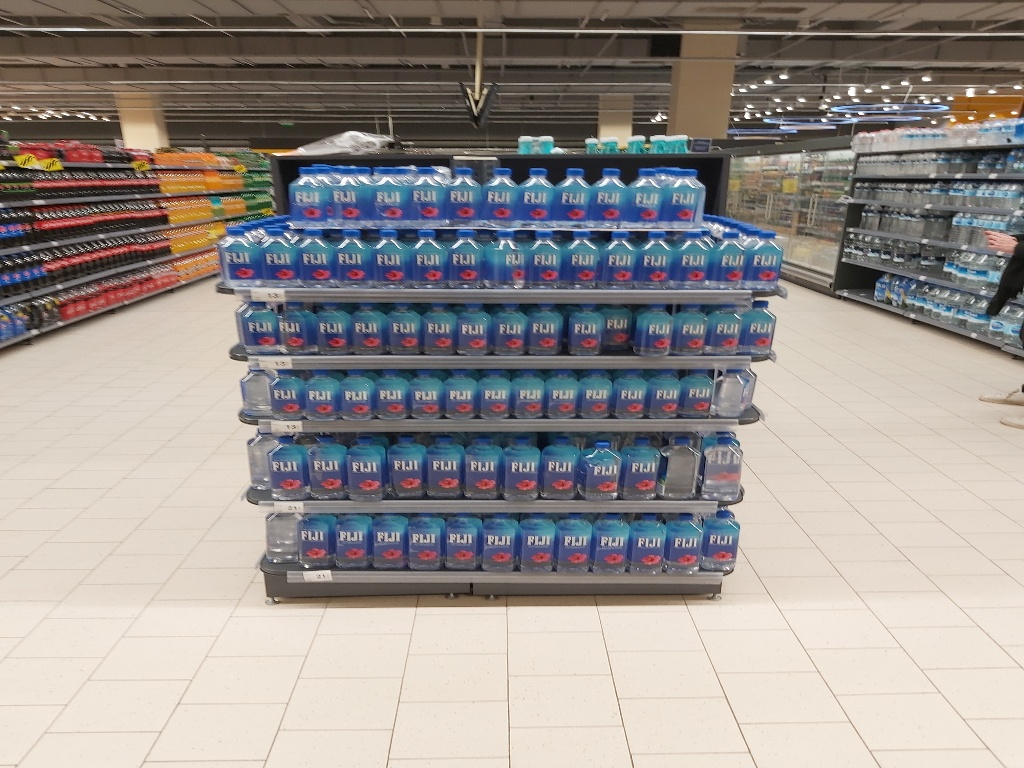urun: (699, 431, 746, 495), (662, 166, 703, 227), (591, 518, 634, 576), (627, 434, 663, 503), (328, 163, 369, 223), (366, 163, 407, 223), (404, 160, 445, 220), (445, 163, 486, 223), (483, 163, 524, 223), (513, 161, 554, 221), (550, 163, 591, 223), (589, 160, 630, 220), (625, 168, 666, 228), (292, 511, 333, 571), (329, 511, 370, 571), (367, 511, 408, 571), (407, 512, 448, 572), (438, 512, 479, 572), (480, 515, 521, 575), (515, 515, 556, 575), (554, 517, 595, 577), (541, 438, 579, 502), (666, 434, 701, 503), (270, 434, 307, 498), (306, 431, 343, 495), (346, 431, 383, 495), (388, 435, 425, 499), (428, 431, 465, 495), (467, 434, 504, 498), (502, 439, 539, 503), (584, 439, 621, 503), (255, 224, 296, 280), (289, 227, 330, 283), (329, 229, 370, 285), (404, 229, 445, 285), (443, 228, 484, 284), (483, 227, 524, 283), (364, 227, 404, 283), (236, 300, 279, 352), (639, 228, 676, 288), (672, 227, 709, 287), (709, 228, 746, 288), (745, 229, 782, 289), (704, 512, 742, 570), (522, 230, 561, 285), (559, 232, 598, 287), (600, 230, 639, 285), (627, 518, 668, 568), (349, 302, 387, 352), (388, 306, 425, 356), (424, 301, 461, 351), (457, 301, 494, 351), (522, 303, 559, 353), (567, 301, 604, 351), (635, 301, 672, 351), (490, 300, 527, 349), (604, 300, 641, 349), (282, 301, 315, 353), (716, 361, 749, 413), (215, 229, 251, 276), (668, 520, 701, 571), (705, 302, 739, 351), (266, 366, 300, 415), (340, 367, 374, 416), (648, 362, 682, 411), (680, 366, 714, 415), (372, 369, 406, 417), (509, 364, 543, 412), (675, 302, 708, 351), (741, 302, 774, 351), (306, 367, 339, 416), (411, 367, 444, 416), (444, 367, 477, 416), (476, 370, 509, 419), (544, 369, 577, 417), (580, 369, 613, 417), (616, 364, 649, 412), (321, 300, 351, 352)
urun2: (288, 165, 329, 225)
